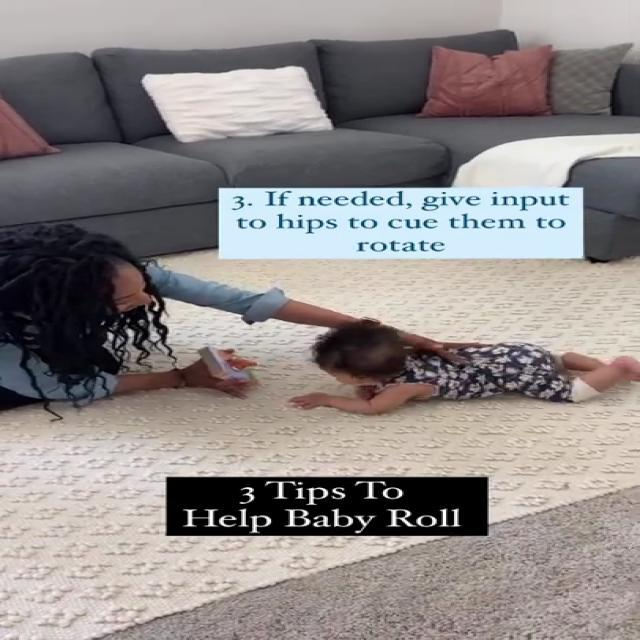baby: (283, 318, 640, 418)
